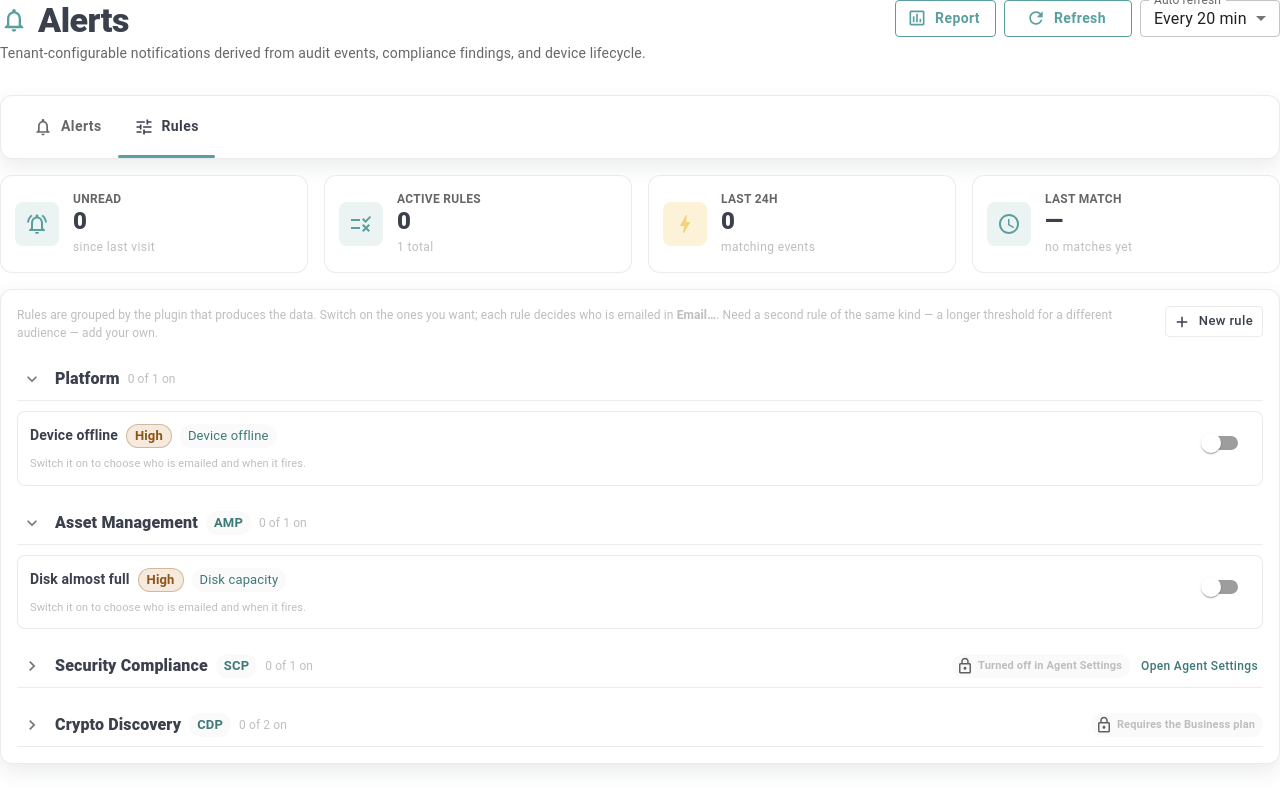
Test: Alerts — reglas agrupadas por plugin › una fuente sin campos declarados se enseña en solo lectura, sin fingir un editor
Click the button named "expand crypto discovery". click: (32, 725)
box: x1=17 y1=710 x2=47 y2=740
(page scrolled)
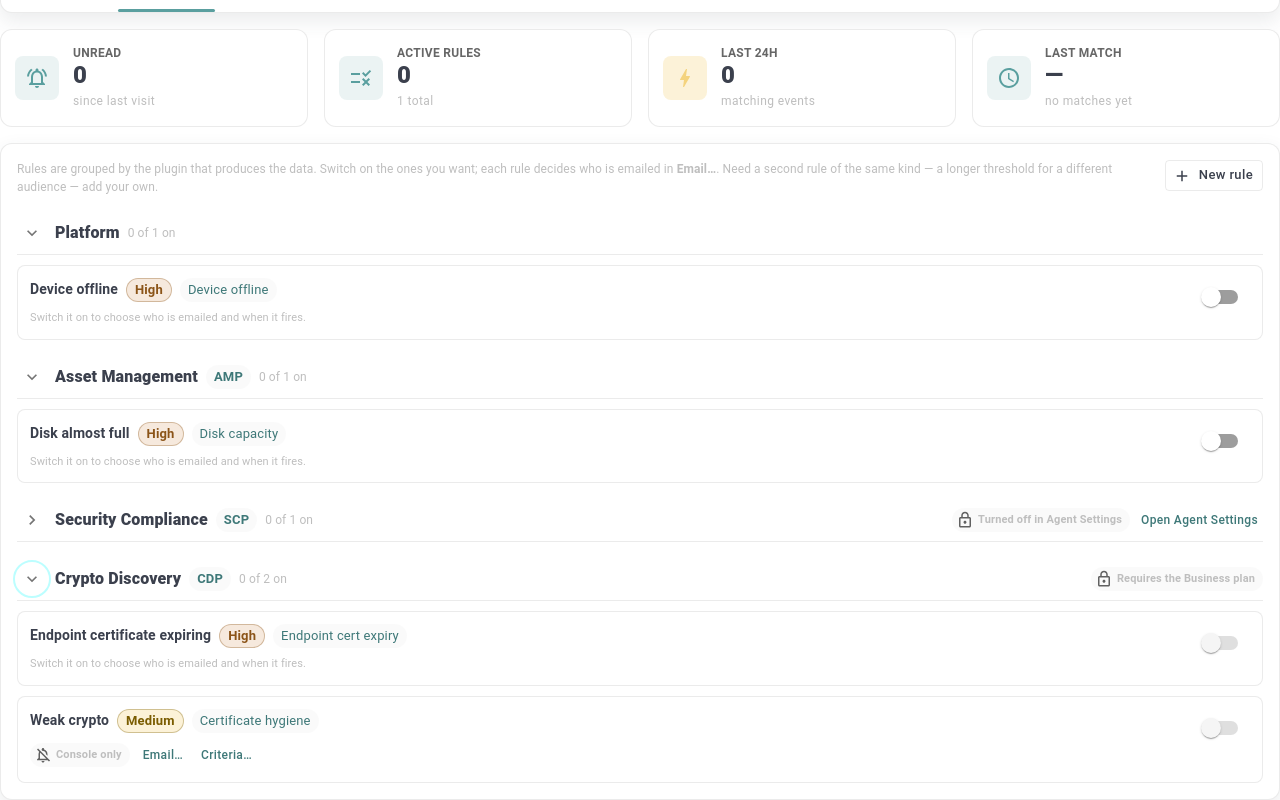
Click the button "Criteria…". click: (227, 755)
box: x1=196 y1=741 x2=257 y2=770
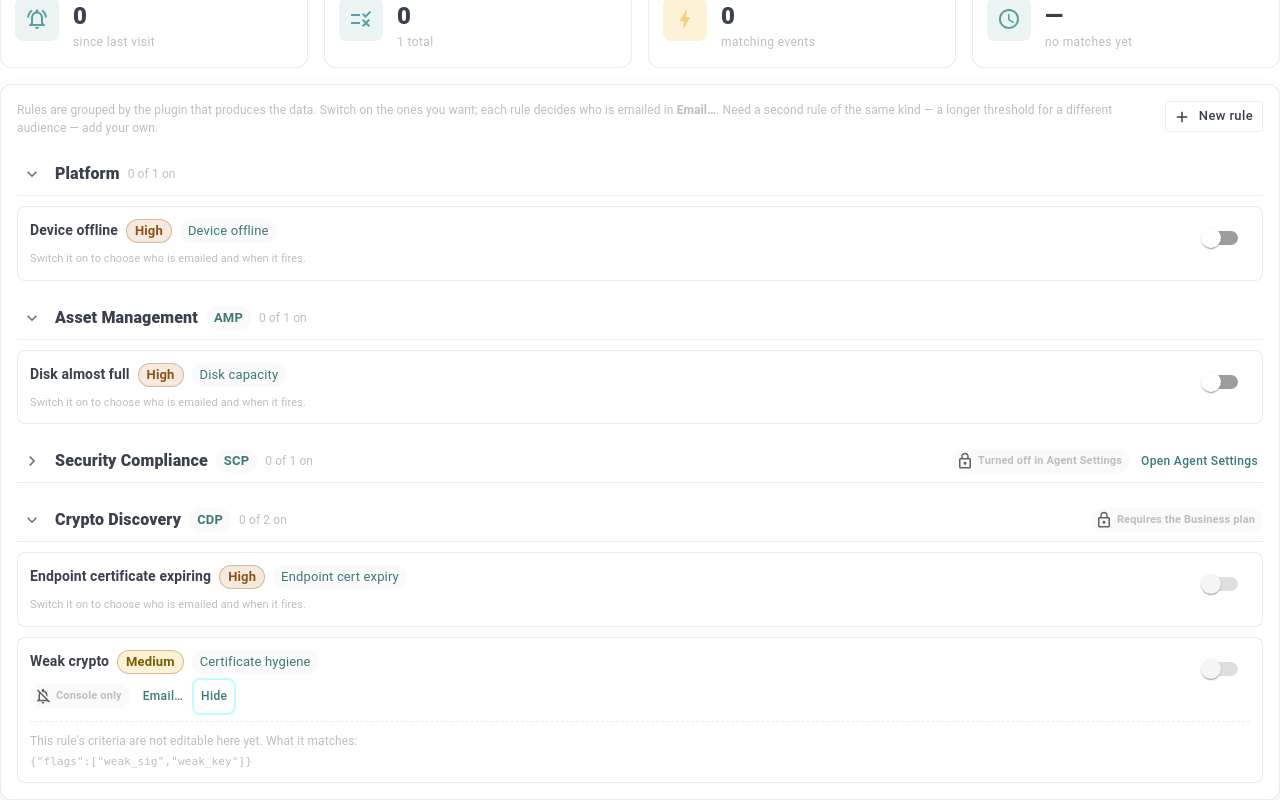
Expected: the text "not editable here yet" is shown, x1=30 y1=734 x2=358 y2=748
